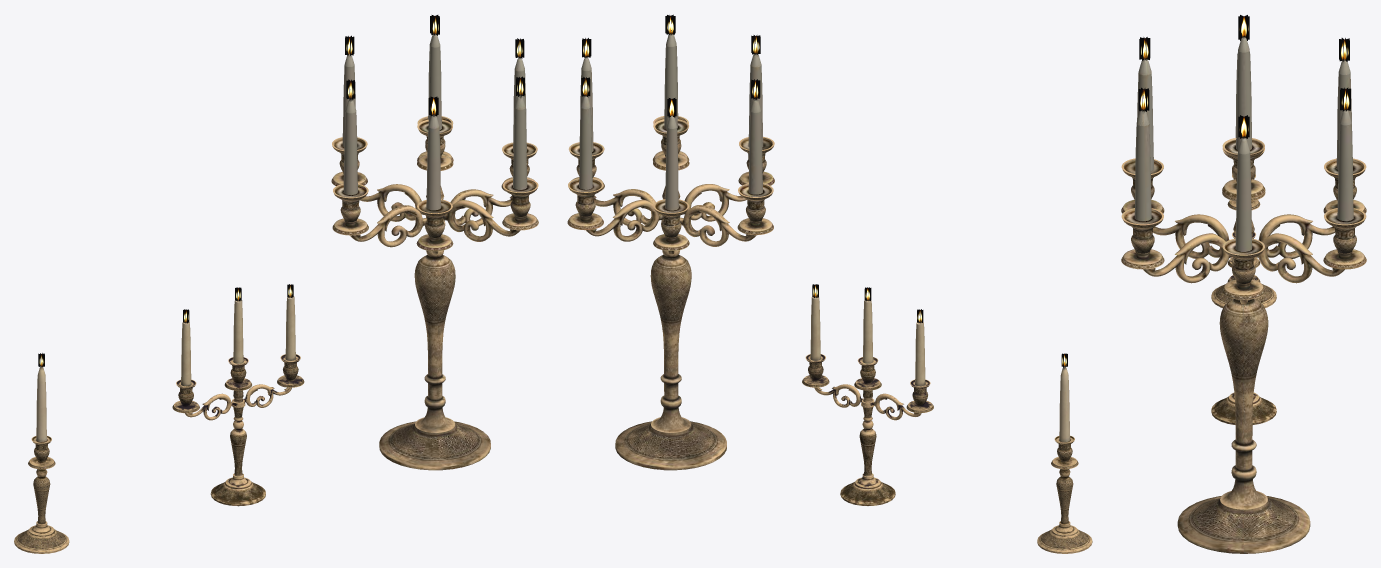
3 renders of one model, left to right at view 1: azimuth 30°, elevation 25°; view 2: azimuth 150°, elevation 25°; view 3: azimuth 270°, elevation 25°, orthographic. The views are drawn at different scales.
Parts seen in each view (by area): view 1: brass_candleholder_03, brass_candleholder_02, brass_candleholder_01; view 2: brass_candleholder_03, brass_candleholder_02, brass_candleholder_01; view 3: brass_candleholder_03, brass_candleholder_02, brass_candleholder_01.
Part boxes in pixels (left/top/right/bottom): brass_candleholder_03: left=331, top=15, right=538, bottom=470; brass_candleholder_02: left=172, top=284, right=304, bottom=506; brass_candleholder_01: left=14, top=353, right=69, bottom=553; brass_candleholder_03: left=567, top=14, right=774, bottom=470; brass_candleholder_02: left=802, top=284, right=933, bottom=505; brass_candleholder_01: left=1037, top=353, right=1092, bottom=553; brass_candleholder_03: left=1121, top=15, right=1366, bottom=553; brass_candleholder_02: left=1211, top=232, right=1276, bottom=424; brass_candleholder_01: left=1211, top=174, right=1276, bottom=307.
Bounding box in the file's own units: 1.05 × 0.8353 × 0.3647.
5 materials, 5 textured.
